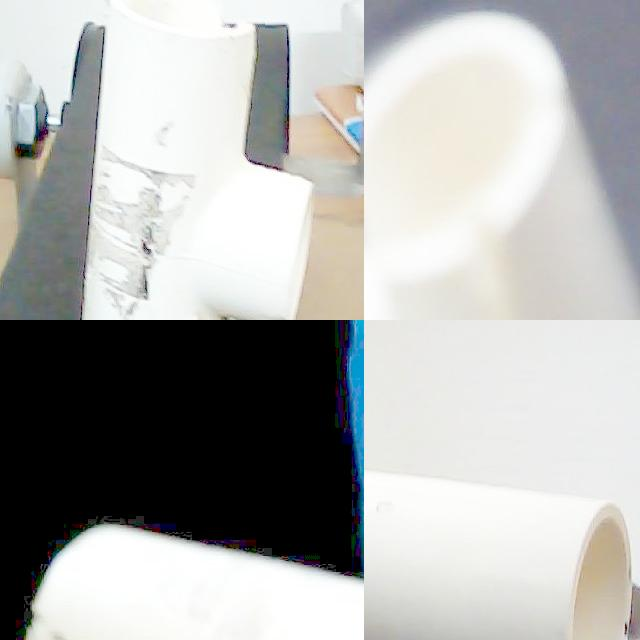Defective: (426, 135, 537, 320), (85, 137, 197, 320), (109, 0, 265, 94), (26, 605, 122, 640), (364, 112, 387, 247), (166, 271, 229, 320)
T Joint: (82, 0, 315, 320), (364, 472, 630, 640), (25, 525, 364, 640)
